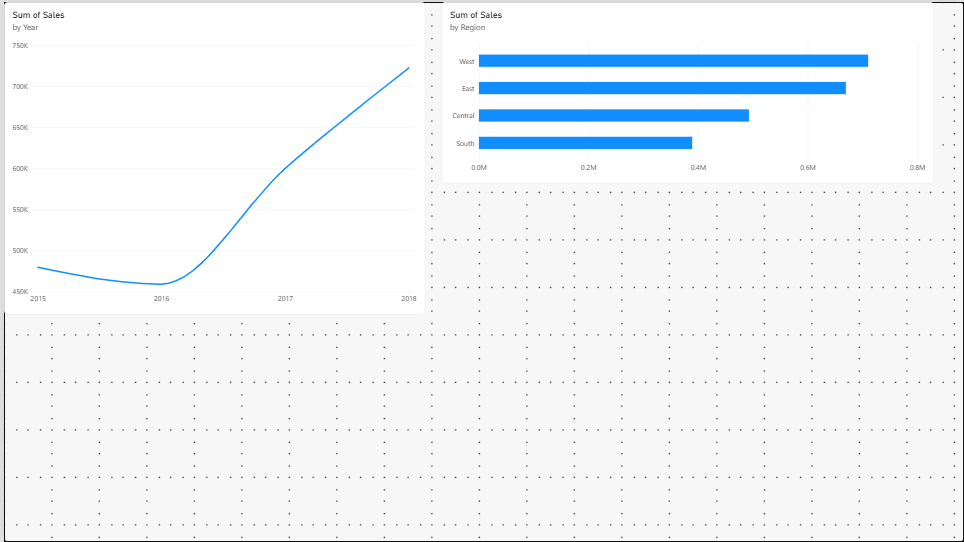

This screenshot's page, from the dashboard's own definition file:
{"tool":"powerbi","page":{"name":"Page 1","canvas":[1920,1080],"ordinal":0},"visuals":[{"type":"lineChart","fields":{"Category":["train[1].Order Date.Variation.Date Hierarchy.Year","train[1].Order Date.Variation.Date Hierarchy.Quarter","train[1].Order Date.Variation.Date Hierarchy.Month","train[1].Order Date.Variation.Date Hierarchy.Day"],"Y":["Sum(train[1].Sales)"]},"box":[0,0,842.5,625],"z":0},{"type":"clusteredBarChart","fields":{"Category":["train[1].Region"],"Y":["Sum(train[1].Sales)"]},"box":[875,0,985,363],"z":1}]}

Visuals, with their boxes in screenshot pixels (x1, y1, x2, y2), scaled from the page's 1920x1080 canvas onto the 964x542 screenshot:
lineChart - train[1].Order Date.Variation.Date Hierarchy.Year x train[1].Order Date.Variation.Date Hierarchy.Quarter: bbox(0, 0, 423, 314)
clusteredBarChart - train[1].Region x Sum(train[1].Sales): bbox(439, 0, 934, 182)
